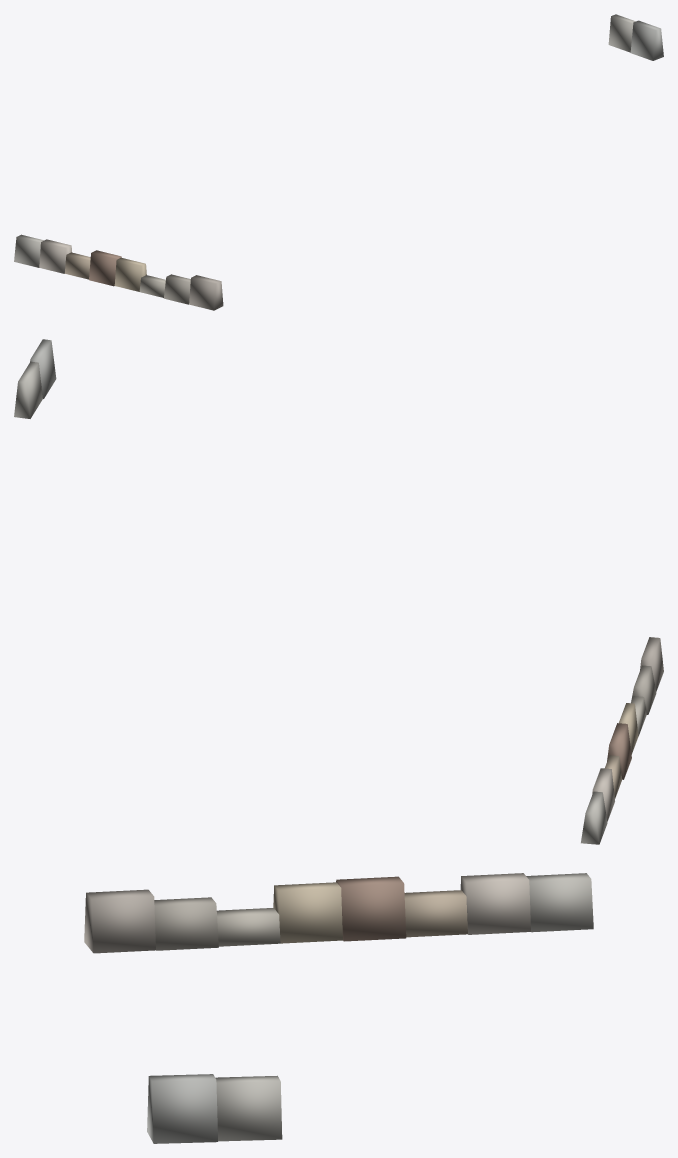
File: farm_-20_-30_collision.glb
3 views of the same model, one above another, from view 1: azimuth 30°, elevation 25°; view 2: azimuth 150°, elevation 25°; view 3: azimuth 270°, elevation 25° (orthographic). The views are drawn at different scales.
Parts seen in each view (by area): view 1: geometry_0; view 2: geometry_0; view 3: geometry_0.
Part boxes in pixels (x1,y1,x2,y2): geometry_0: (14,14,663,310); geometry_0: (14,339,663,844); geometry_0: (84,873,593,1143).
Bounding box in the file's own units: 29.95 × 9.54 × 12.18.
